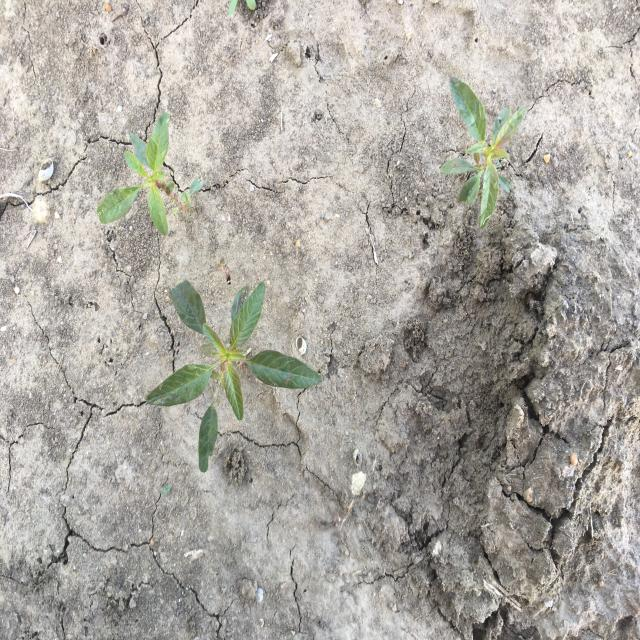Waterhemp: (144, 277, 324, 473), (96, 111, 206, 238), (438, 75, 528, 230)
